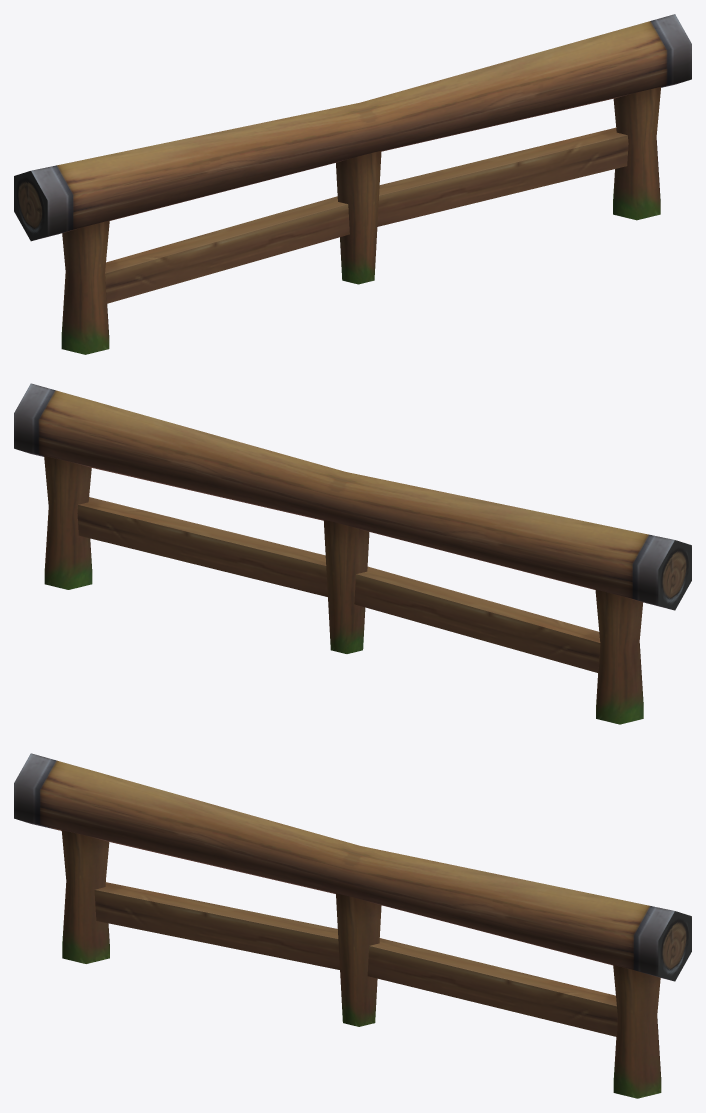
File: scene_malujiakuangdao_hulan02.FBX
The picture shows the model from 3 angles, top to bottom: view 1: azimuth 30°, elevation 25°; view 2: azimuth 150°, elevation 25°; view 3: azimuth 330°, elevation 25°; orthographic projection.
Parts seen in each view (by area): view 1: scene_malujiakuangdao_hulan02; view 2: scene_malujiakuangdao_hulan02; view 3: scene_malujiakuangdao_hulan02.
Boxes of the visible parts, x1,y1,x2,y2 form: scene_malujiakuangdao_hulan02: [14, 14, 691, 354]; scene_malujiakuangdao_hulan02: [14, 383, 691, 724]; scene_malujiakuangdao_hulan02: [14, 753, 691, 1098].
Bounding box in the file's own units: 294 × 81.12 × 26.66.
